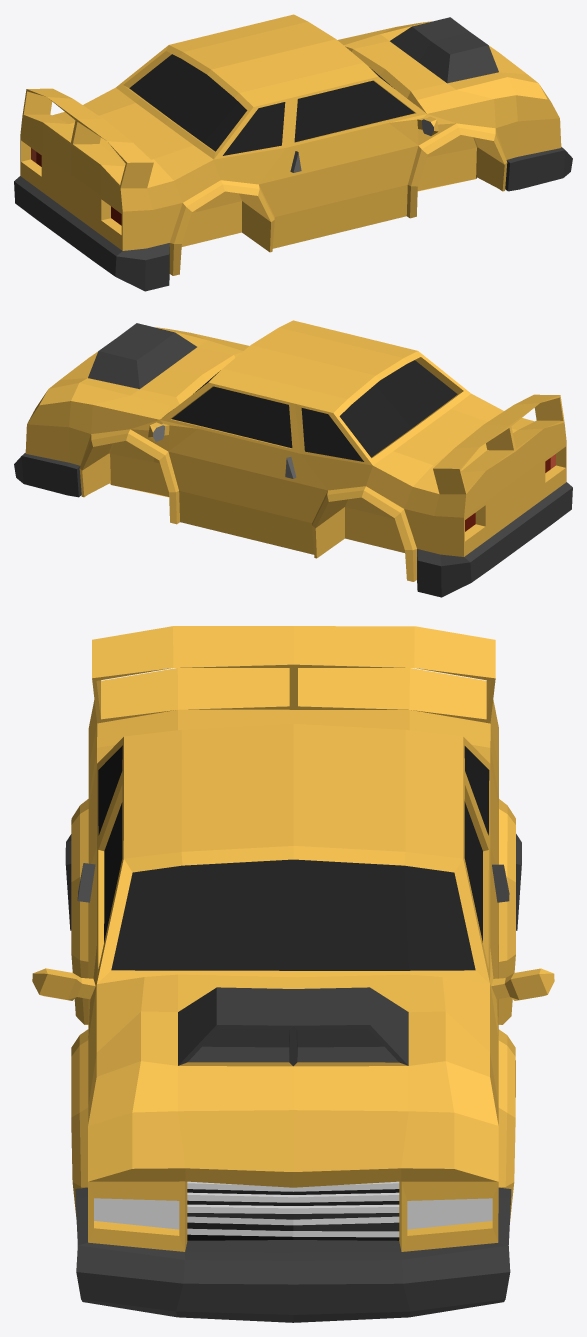
File: car.glb
3 views of the same model, one above another, from view 1: azimuth 30°, elevation 25°; view 2: azimuth 150°, elevation 25°; view 3: azimuth 270°, elevation 25° (orthographic). The views are drawn at different scales.
Parts seen in each view (by area): view 1: car; view 2: car; view 3: car.
Part boxes in pixels (x1,y1,x2,y2): car: (14,14,572,291); car: (14,320,572,597); car: (32,626,554,1322).
Bounding box in the file's own units: 9.21 × 2.89 × 4.51.
1 material, 1 textured.
